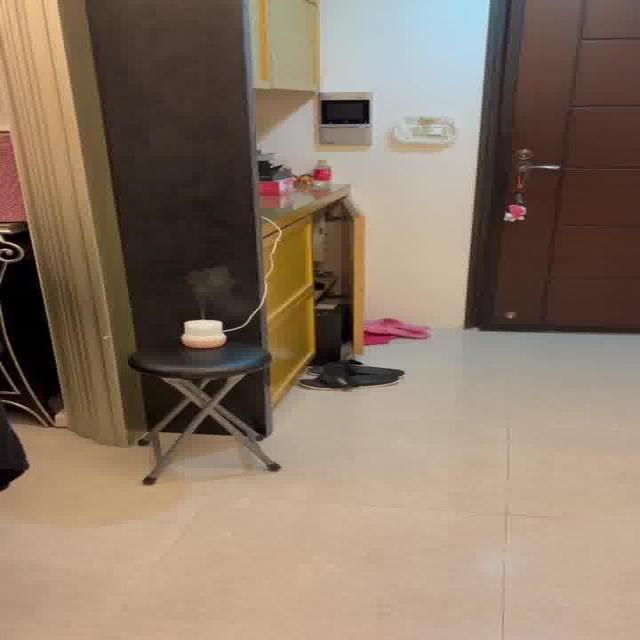fire: (183, 262, 242, 312)
